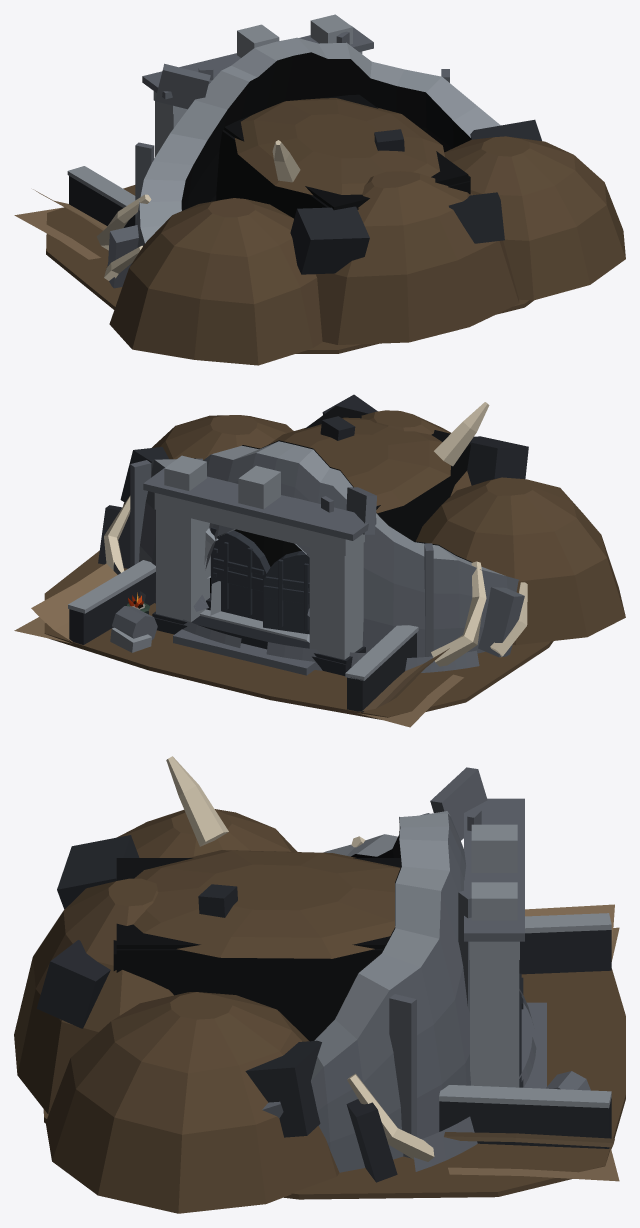
Rendered from 折壳入口_手游_远.glb.
3 renders of one model, top to bottom at view 1: azimuth 30°, elevation 25°; view 2: azimuth 150°, elevation 25°; view 3: azimuth 270°, elevation 25°, orthographic. The views are drawn at different scales.
Parts seen in each view (by area): view 1: FS-主体; view 2: FS-主体; view 3: FS-主体.
Part boxes in pixels (x1,y1,x2,y2): FS-主体: [14, 14, 625, 365]; FS-主体: [14, 394, 625, 727]; FS-主体: [14, 756, 625, 1213].
Size of the model in its own units: 12.99 by 4.57 by 10.62.
2 materials, 2 textured.
